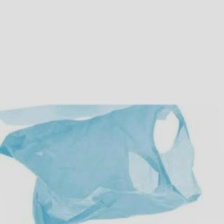plastic_bag: (0, 101, 207, 223)
